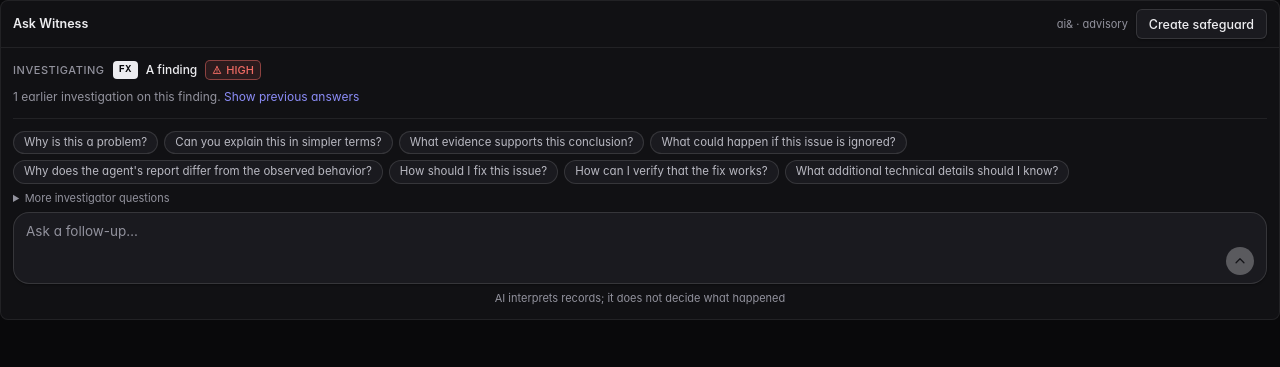
AskWitnessPanel compact (summary view) › shows only the input and suggested questions until the history is opened
expect the text box named "Ask a question about this finding" is shown: met, box [26,221,1254,241]
expect the button "Why is this a problem?" is shown: met, box [13,131,158,154]
Click the button "Show previous answers" at coordinates (292, 97), box [224,88,359,106]
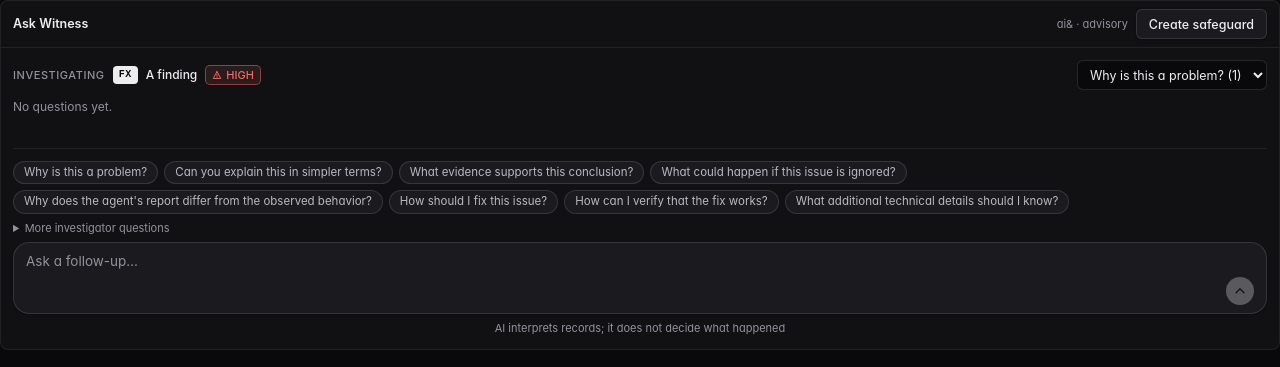
expect the dropdown named "Investigation" is shown: met, box [1077,60,1267,90]
